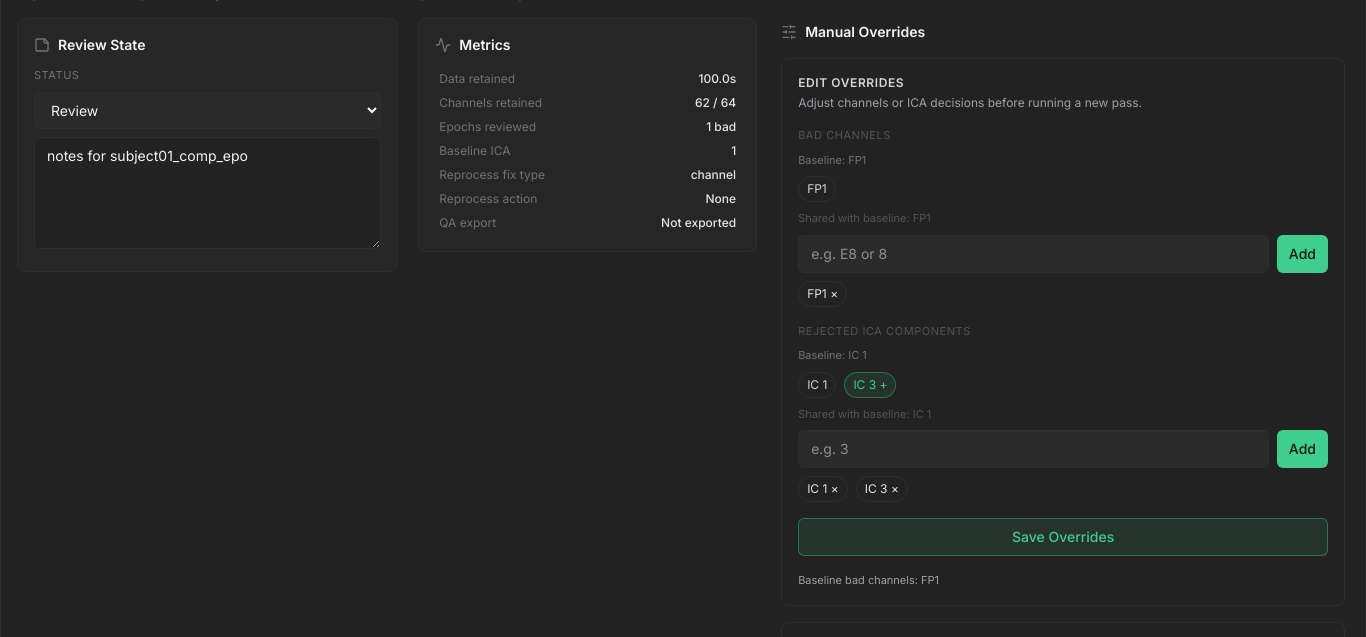
Test: ExcludePage › blocks changing channels and ICA in the same run
(page scrolled)
Expected: the button "FP1 ×" is shown, x1=798 y1=280 x2=847 y2=306
Type "8" into the field with placeholder "e.g. E8 or 8".
click(1033, 254); type("8")  # box x1=798 y1=234 x2=1269 y2=272
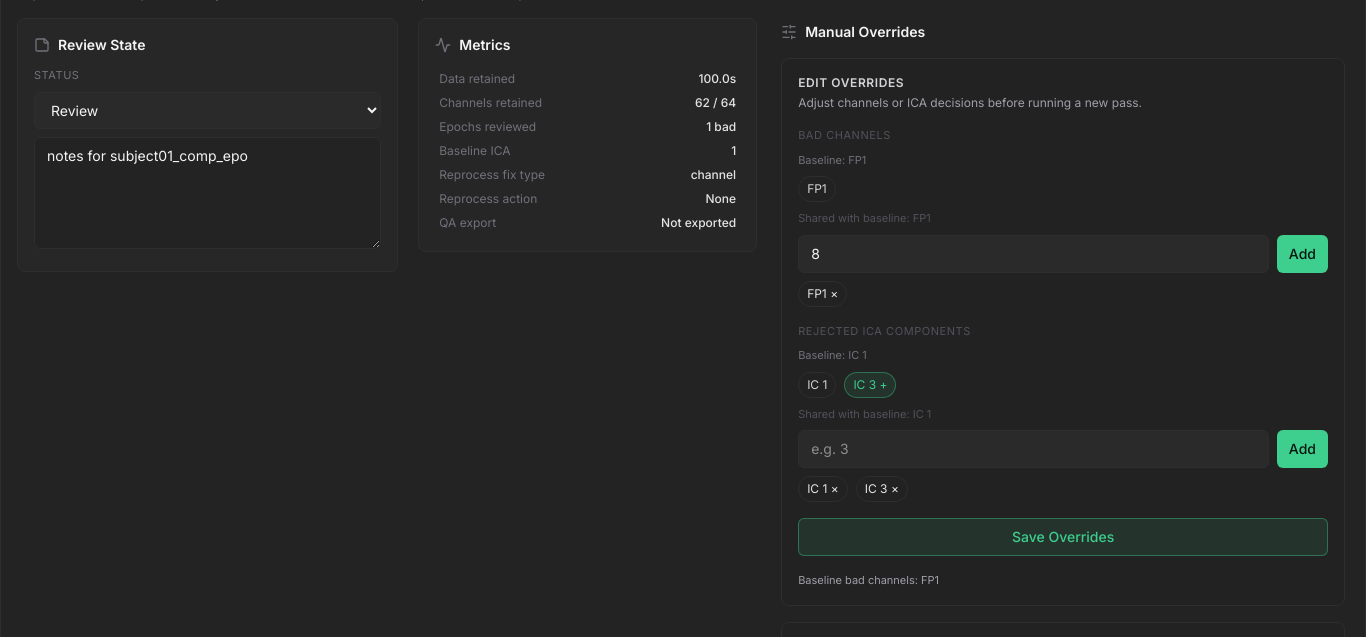
Click the 1st button "Add".
click(1302, 254)  # box x1=1277 y1=234 x2=1328 y2=272
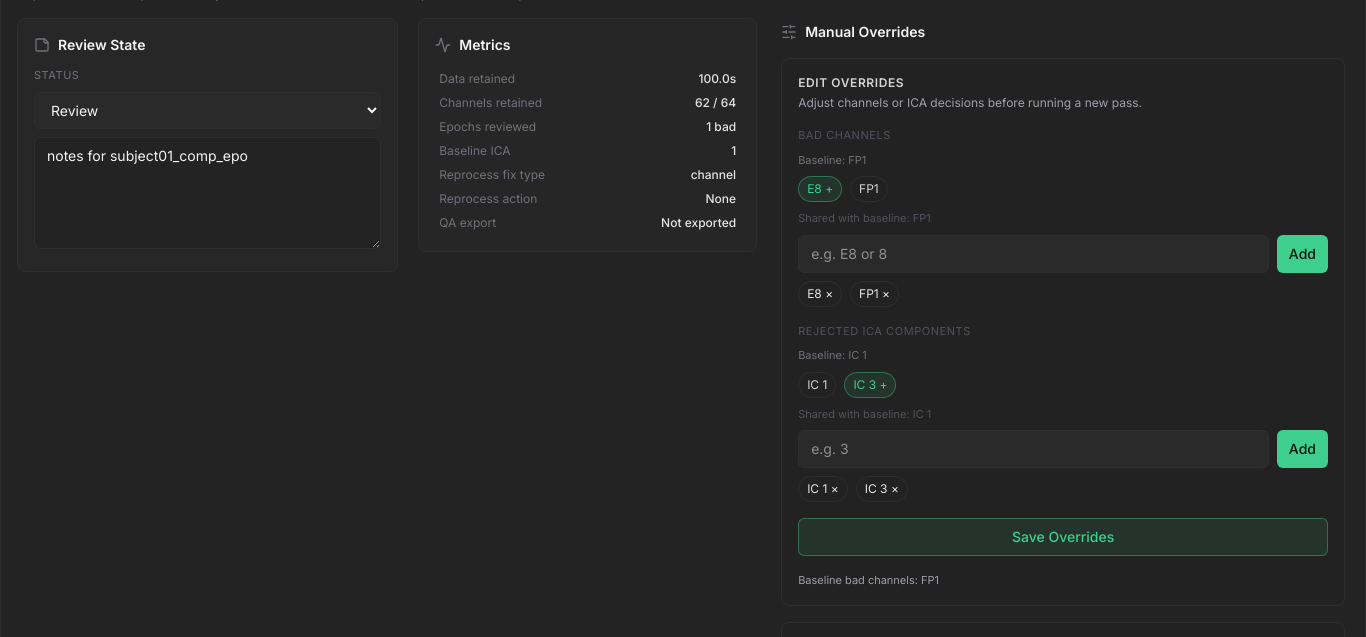
Type "5" into the field with placeholder "e.g. 3".
click(1033, 449); type("5")  # box x1=798 y1=430 x2=1269 y2=468
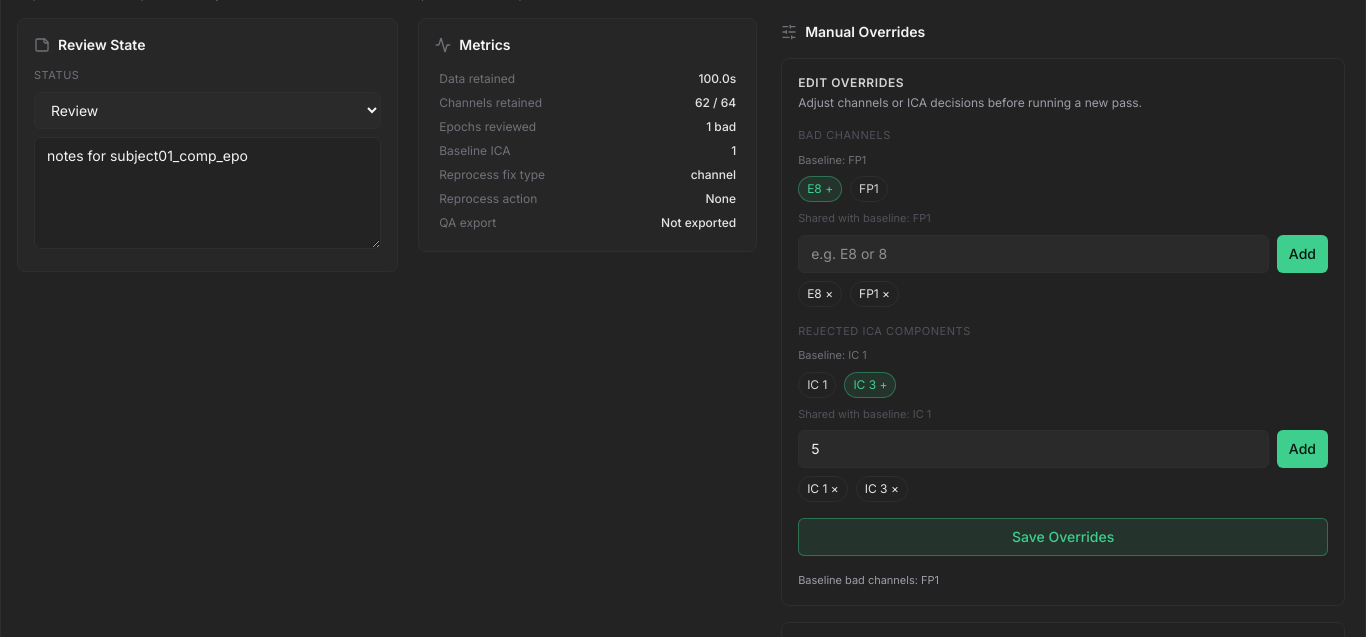
Click the 2nd button "Add".
click(1302, 449)  # box x1=1277 y1=430 x2=1328 y2=468
(page scrolled)
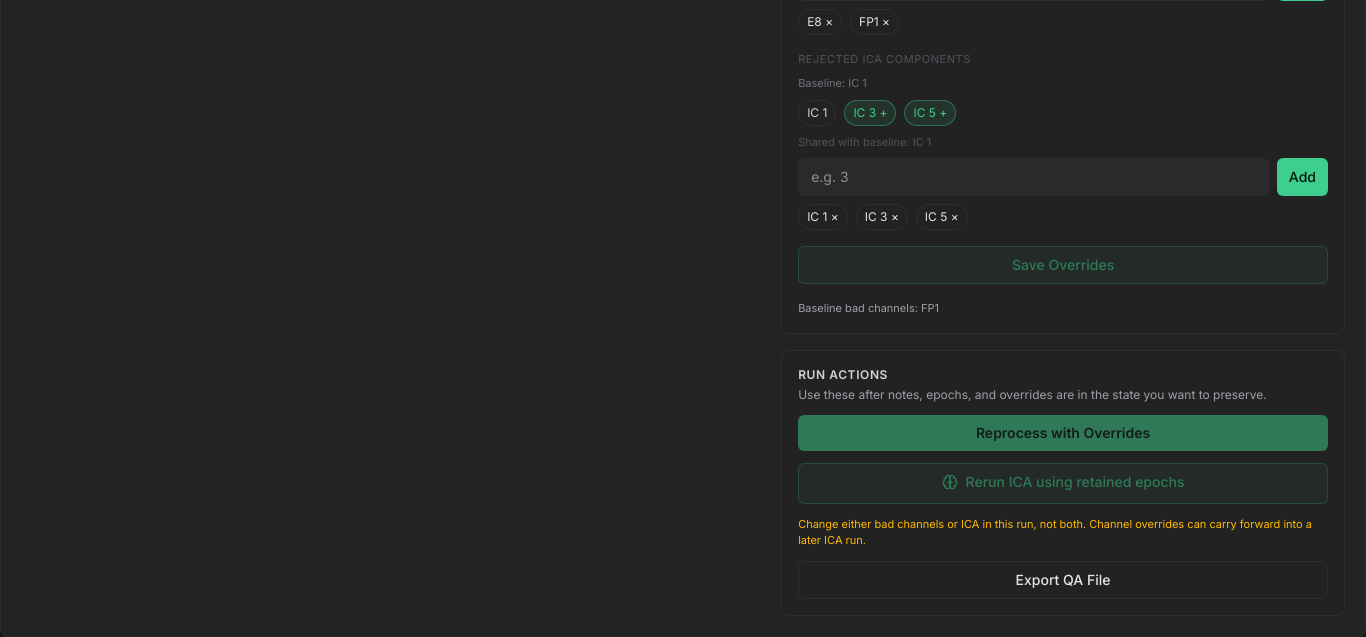
Result: the text "Change either bad channels or ICA in this run" is shown at x1=798 y1=516 x2=1312 y2=547
Result: the button "Save Overrides" is disabled at x1=798 y1=246 x2=1328 y2=284
Result: the button "Reprocess with Overrides" is disabled at x1=798 y1=414 x2=1328 y2=450
